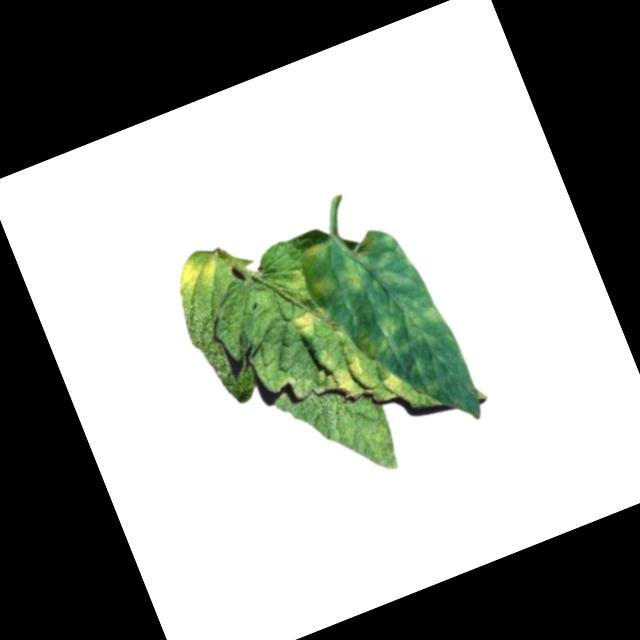Leaf_Mold: (351, 294, 452, 372), (359, 220, 419, 297), (313, 341, 371, 404), (170, 249, 224, 300), (330, 251, 371, 300), (282, 305, 325, 349), (292, 237, 324, 265), (377, 368, 405, 398), (306, 273, 333, 303)
